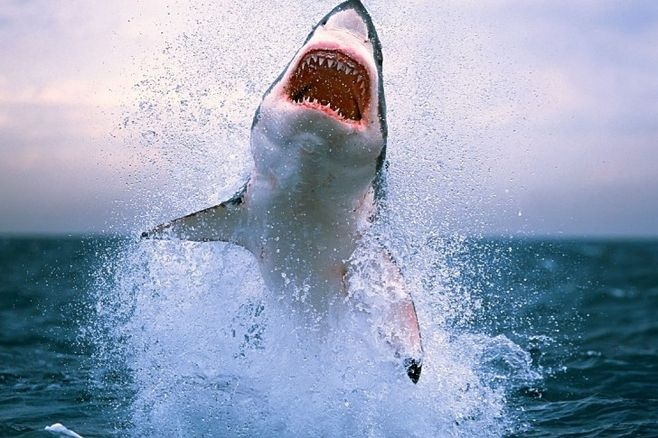fish: (125, 1, 438, 395)
